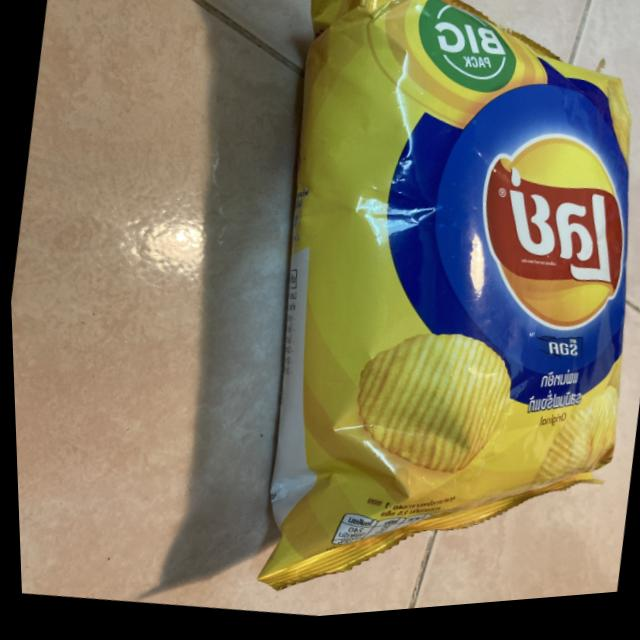LayYellow: (159, 0, 640, 630)
